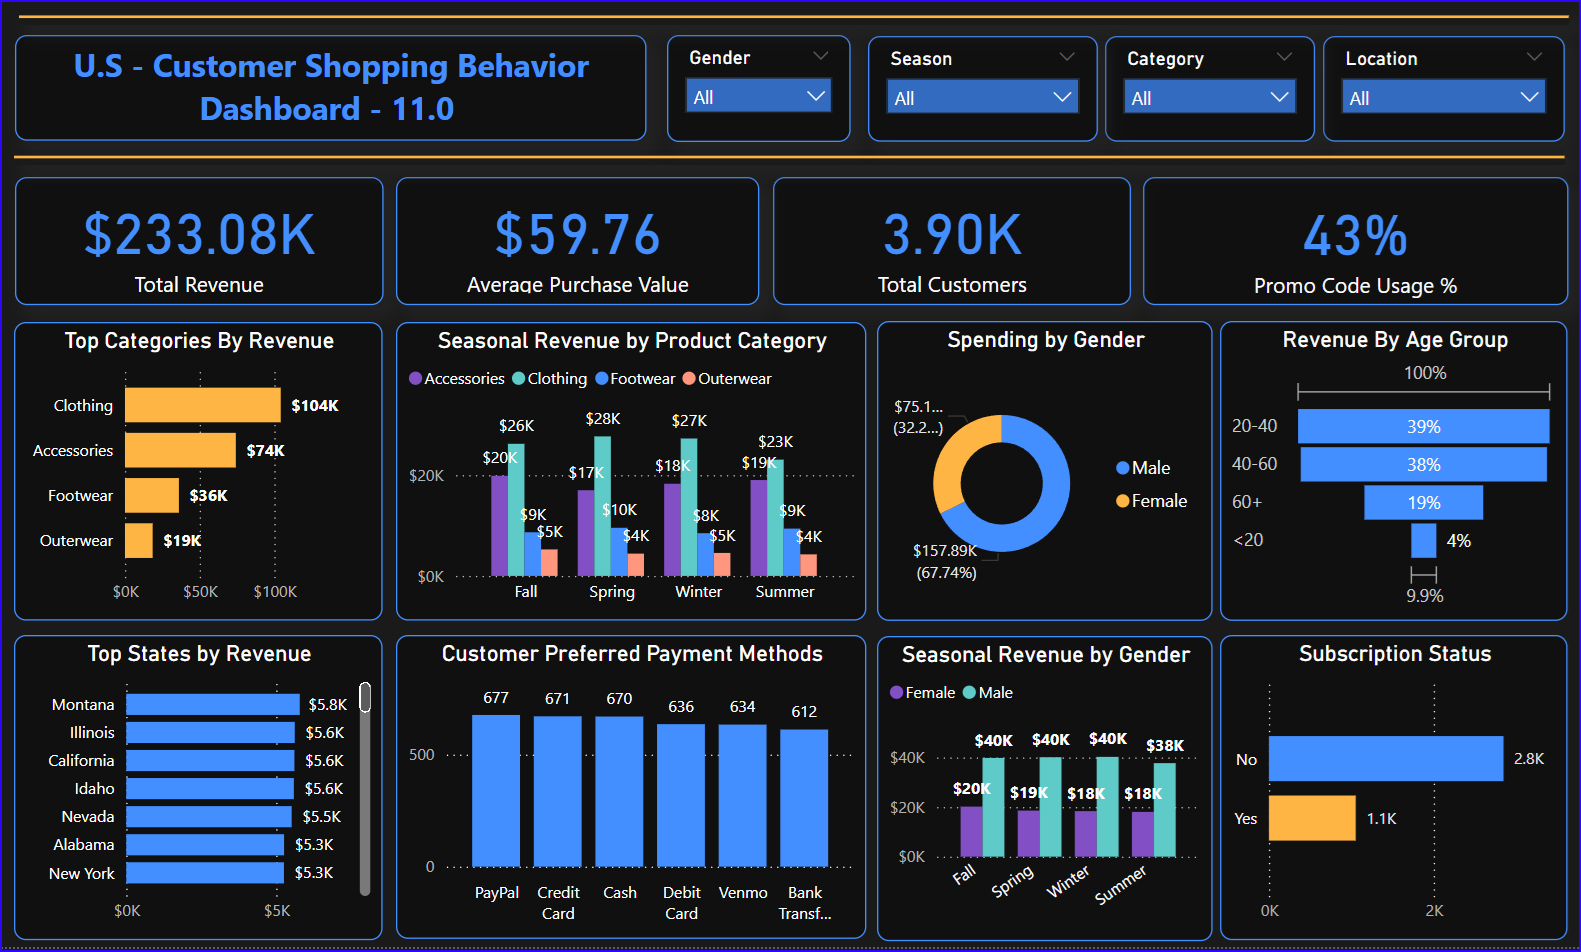

Layout of this report page (visuals, bound fields, positions):
{"tool":"powerbi","page":{"name":"V11 US Shopping Trends & Customer Behaviour","canvas":[1280,720],"ordinal":4},"visuals":[{"type":"card","fields":{"Values":["Sum(CustomerData.Purchase Amount)"]},"box":[55,136.7,278.8,97.2],"z":0},{"type":"barChart","title":"Top States by Revenue","fields":{"Category":["CustomerData.Location"],"Y":["Sum(CustomerData.Purchase Amount)"]},"box":[54.3,483.9,278.8,230.5],"z":1000},{"type":"clusteredBarChart","title":"Top Categories By Revenue","fields":{"Category":["CustomerData.Category"],"Y":["Sum(CustomerData.Purchase Amount)"]},"box":[54.3,246.4,278.6,226.4],"z":2000},{"type":"textbox","box":[55.1,29.7,478.5,80.4],"z":3000},{"type":"card","fields":{"Values":["Shopping Trends And Customer Behaviour Dataset.Promo Code Usage %"]},"box":[909.4,136.7,321.7,97.2],"z":4000},{"type":"slicer","fields":{"Values":["CustomerData.Gender"]},"box":[549.2,29.8,139.3,80.7],"z":5000},{"type":"card","fields":{"Values":["Count(Shopping Trends And Customer Behaviour Dataset.Customer ID)"]},"box":[629.3,136.7,271.4,97.2],"z":6000},{"type":"donutChart","title":"Spending by Gender","fields":{"Category":["CustomerData.Gender"],"Y":["Sum(CustomerData.Purchase Amount)"]},"box":[707.6,246.2,253.8,226.9],"z":7000},{"type":"slicer","fields":{"Values":["CustomerData.Location"]},"box":[1045.6,30.5,182.9,80],"z":8000},{"type":"barChart","title":" Subscription Status","fields":{"Category":["CustomerData.Subscription Status"],"Y":["CountNonNull(CustomerData.Subscription Status)"]},"box":[967.6,483.4,263.4,231],"z":9000},{"type":"funnel","title":"Revenue By Age Group","fields":{"Category":["CustomerData.Age Group"],"Y":["CustomerData.Revenue % by Age Group"]},"box":[967.6,246.2,263.4,226.9],"z":10000},{"type":"slicer","fields":{"Values":["CustomerData.Category"]},"box":[880.6,30.5,158.6,80],"z":11000},{"type":"slicer","fields":{"Values":["CustomerData.Season"]},"box":[700.6,30.5,173.6,80],"z":12000},{"type":"card","fields":{"Values":["Avg(Shopping Trends And Customer Behaviour Dataset.Purchase Amount)"]},"box":[343.8,136.7,275.4,97.2],"z":13000},{"type":"shape","box":[54.3,115.7,1173.6,12.1],"z":14000},{"type":"shape","box":[57.9,9.7,1173.1,11.7],"z":15000},{"type":"clusteredColumnChart","title":"Seasonal Revenue by Product Category","fields":{"Category":["CustomerData.Season"],"Series":["CustomerData.Category"],"Y":["Sum(CustomerData.Purchase Amount)"]},"box":[343.4,246.9,355.9,226.2],"z":16000},{"type":"columnChart","title":"Customer Preferred Payment Methods","fields":{"Category":["CustomerData.Payment Method"],"Y":["CountNonNull(CustomerData.Customer ID)"]},"box":[343.4,483.4,355.9,230.3],"z":17000},{"type":"clusteredColumnChart","title":"Seasonal Revenue by Gender","fields":{"Category":["CustomerData.Season"],"Y":["Sum(CustomerData.Purchase Amount)"],"Series":["CustomerData.Gender"]},"box":[707.6,484.1,253.8,231],"z":18000}]}

Visuals, with their boxes on the page's 1280x720 design canvas (x1, y1, x2, y2). These are canvas units, not pixel positions in the 1581x952 screenshot, which may show the page scaled, cropped or inside an application window:
card - Sum(CustomerData.Purchase Amount): bbox=(55, 137, 334, 234)
"Top States by Revenue" barChart: bbox=(54, 484, 333, 714)
"Top Categories By Revenue" clusteredBarChart: bbox=(54, 246, 333, 473)
textbox: bbox=(55, 30, 534, 110)
card - Shopping Trends And Customer Behaviour Dataset.Promo Code Usage %: bbox=(909, 137, 1231, 234)
slicer - CustomerData.Gender: bbox=(549, 30, 688, 110)
card - Count(Shopping Trends And Customer Behaviour Dataset.Customer ID): bbox=(629, 137, 901, 234)
"Spending by Gender" donutChart: bbox=(708, 246, 961, 473)
slicer - CustomerData.Location: bbox=(1046, 30, 1228, 110)
" Subscription Status" barChart: bbox=(968, 483, 1231, 714)
"Revenue By Age Group" funnel: bbox=(968, 246, 1231, 473)
slicer - CustomerData.Category: bbox=(881, 30, 1039, 110)
slicer - CustomerData.Season: bbox=(701, 30, 874, 110)
card - Avg(Shopping Trends And Customer Behaviour Dataset.Purchase Amount): bbox=(344, 137, 619, 234)
shape: bbox=(54, 116, 1228, 128)
shape: bbox=(58, 10, 1231, 21)
"Seasonal Revenue by Product Category" clusteredColumnChart: bbox=(343, 247, 699, 473)
"Customer Preferred Payment Methods" columnChart: bbox=(343, 483, 699, 714)
"Seasonal Revenue by Gender" clusteredColumnChart: bbox=(708, 484, 961, 715)
